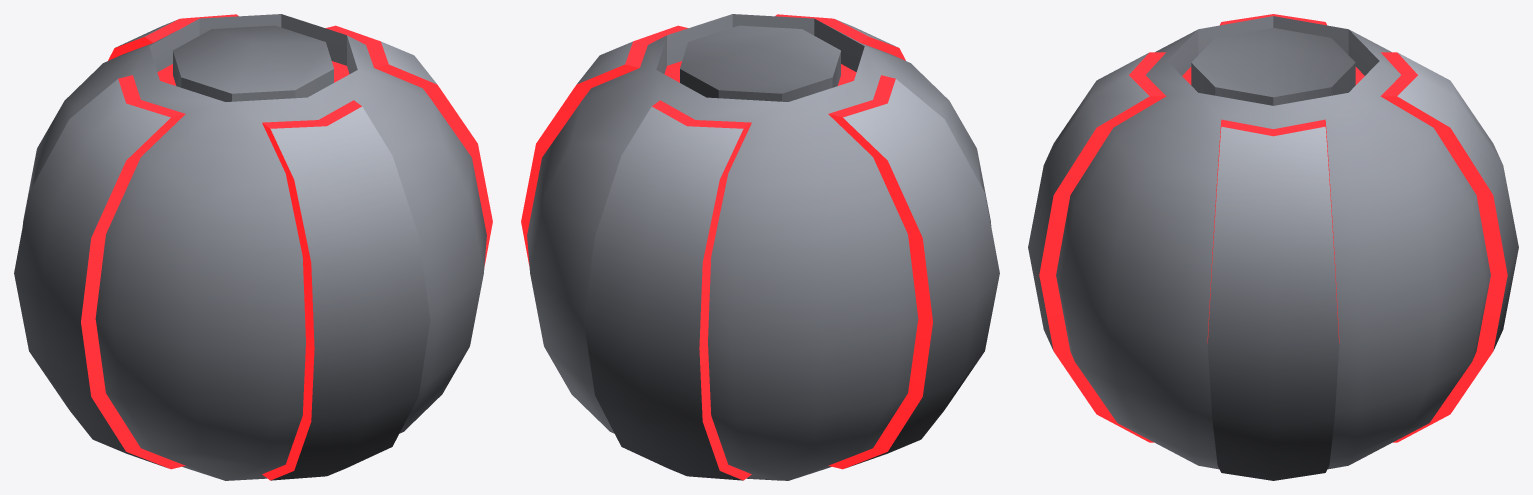
File: EvilSphere.fbx
3 views of the same model, side by side, from view 1: azimuth 30°, elevation 25°; view 2: azimuth 150°, elevation 25°; view 3: azimuth 270°, elevation 25° (orthographic).
Visible parts, largest first — view 1: EvilSphere; view 2: EvilSphere; view 3: EvilSphere.
Boxes of the visible parts, <box> form: EvilSphere: <box>14,14,492,480</box>; EvilSphere: <box>521,14,999,480</box>; EvilSphere: <box>1028,14,1518,480</box>.
Bounding box in the file's own units: 0.7322 × 0.6767 × 0.7322.
